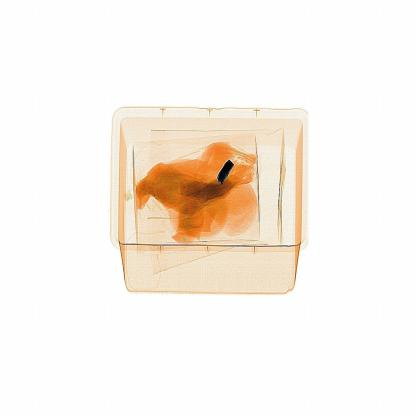scissors: (212, 153, 236, 195)
